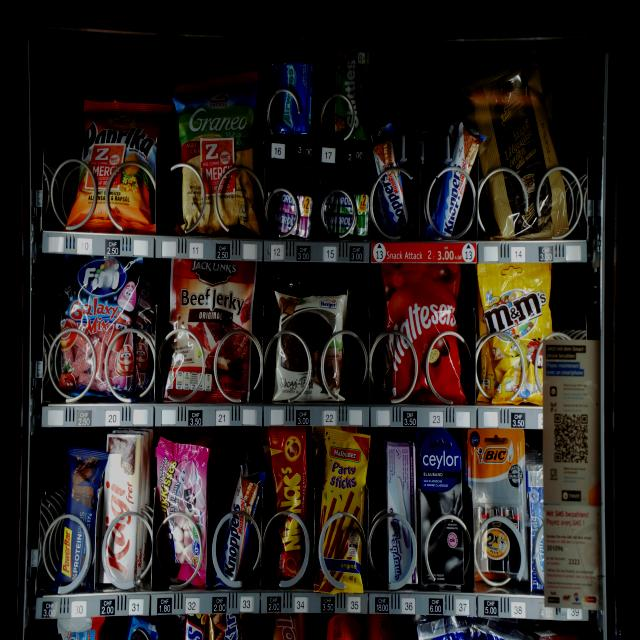airwaves_menthoneucalyptus_riegel_14_1_50173167: (270, 55, 310, 134)
berger____: (270, 272, 352, 406)
fini_galaxymix_packung_100_1_8410525150364: (58, 258, 133, 400)
fini_jellykisses_packung_80_1_8410525116704: (156, 439, 207, 585)
jacklinks_beefjerkyorginal__25__4047751730219: (161, 252, 256, 411)
jlbrichard_gauffrechoko__90__5410495002079: (482, 62, 564, 231)
kagi___50__7610046000259: (102, 430, 144, 590)
knoppers_riegel____4035800488808: (425, 114, 483, 246), (210, 464, 263, 578), (369, 121, 416, 239)
lorenz_nicnacs__40__4018077798818: (261, 419, 320, 590)
malburner_partysticks__40__7610200279682: (314, 424, 372, 596)
maltesers___100__5000159023061: (374, 254, 472, 406)
mnms_gelb__45__40111445: (477, 251, 558, 402)
powerbar_proteinplusschoko__55__4029679520028: (60, 443, 99, 589)
skittles_sour_riegel_51_1_: (334, 45, 368, 136)
stimorol_spearmint_riegel_14_1_: (319, 187, 370, 242)
stimorol_wildcherry_riegel_14_1_57060330: (268, 190, 310, 242)
zweifel_graneochilli__100__7610095184009: (166, 64, 264, 237)
zweifel_paprika__90__7610095013002: (58, 85, 170, 239)
